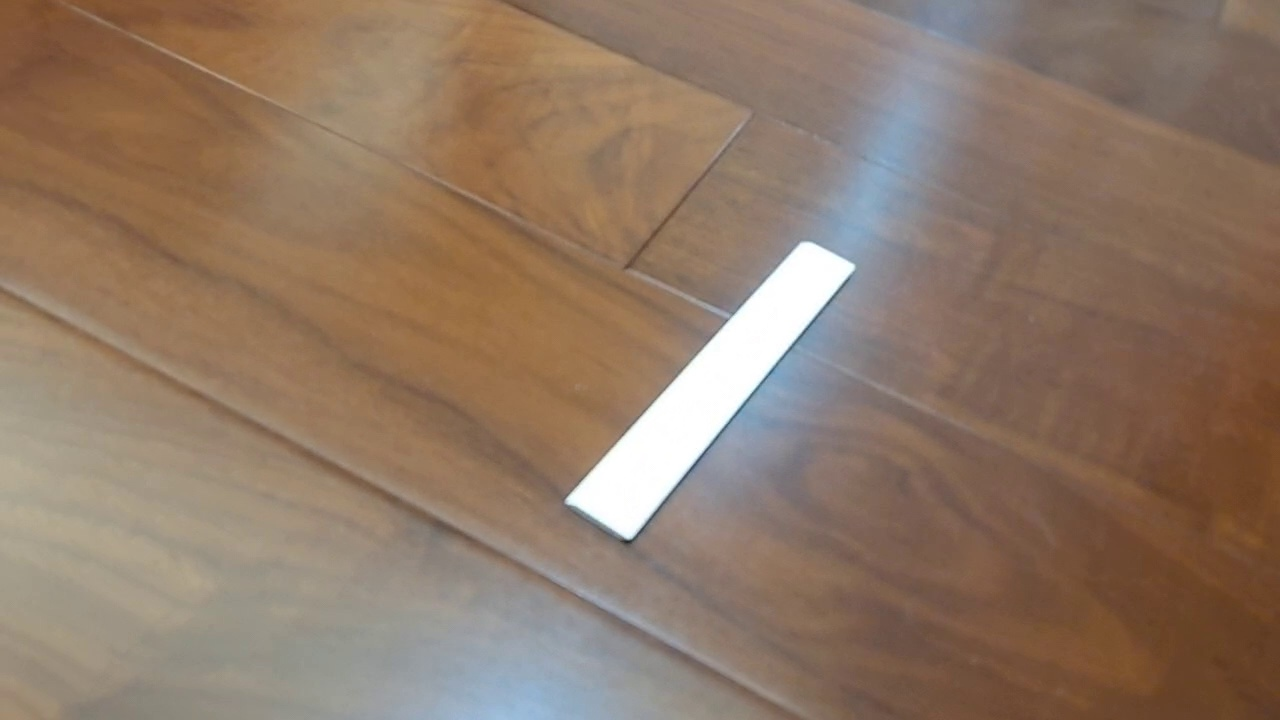ruler: (561, 238, 857, 546)
